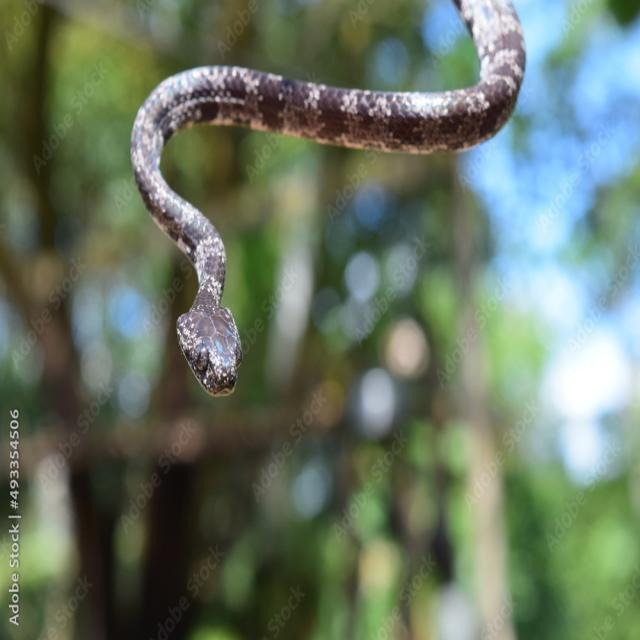Snake: (111, 0, 554, 430)
